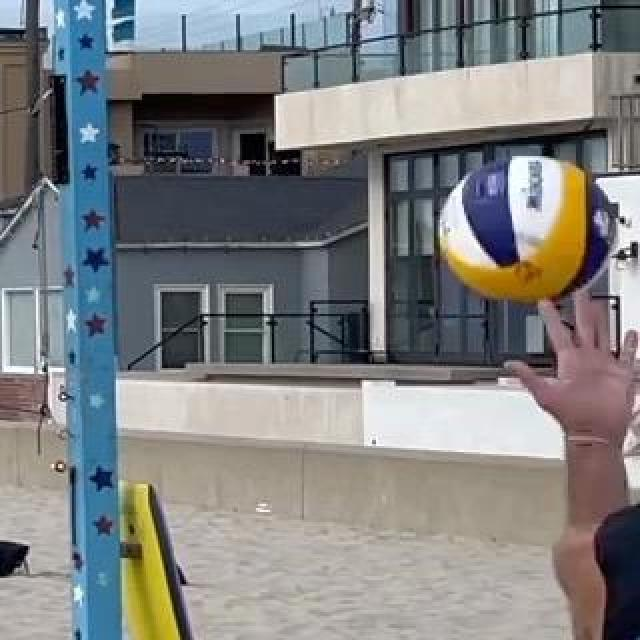volleyball: (438, 154, 618, 310)
